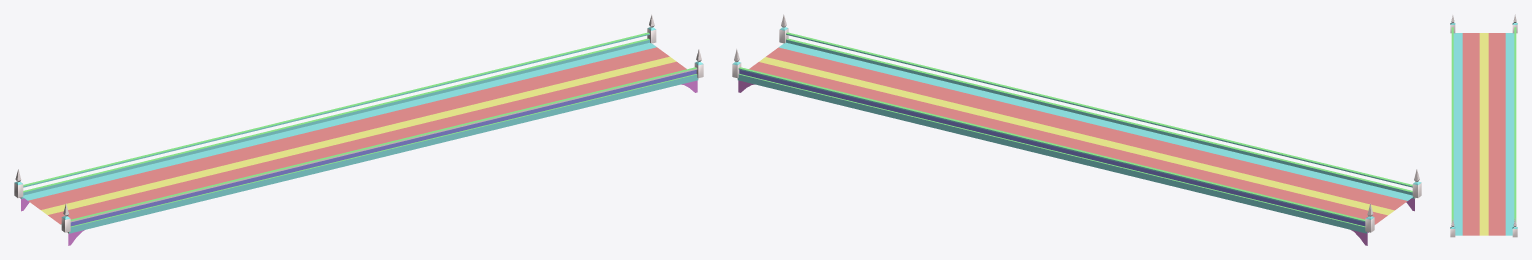
File: bridg_rest.gltf
The picture shows the model from 3 angles, left to right: view 1: azimuth 30°, elevation 25°; view 2: azimuth 150°, elevation 25°; view 3: azimuth 270°, elevation 25°; orthographic projection. The views are drawn at different scales.
Visible parts, largest first — view 1: bridg_rest; view 2: bridg_rest; view 3: bridg_rest.
Part boxes in pixels (x1=…): bridg_rest: x1=14, y1=14, x2=703, y2=245; bridg_rest: x1=732, y1=14, x2=1421, y2=245; bridg_rest: x1=1450, y1=14, x2=1517, y2=237.
Bounding box in the file's own units: 22.08 × 1.42 × 3.05.
